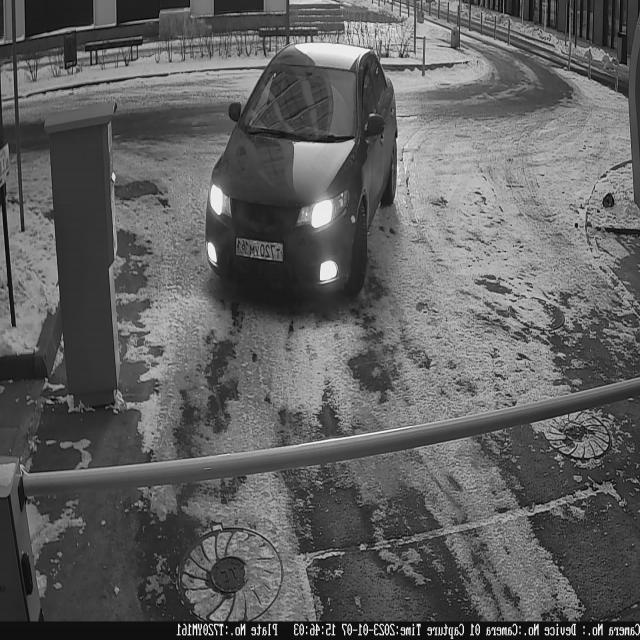car-plate-numbers: (232, 237, 286, 266)
